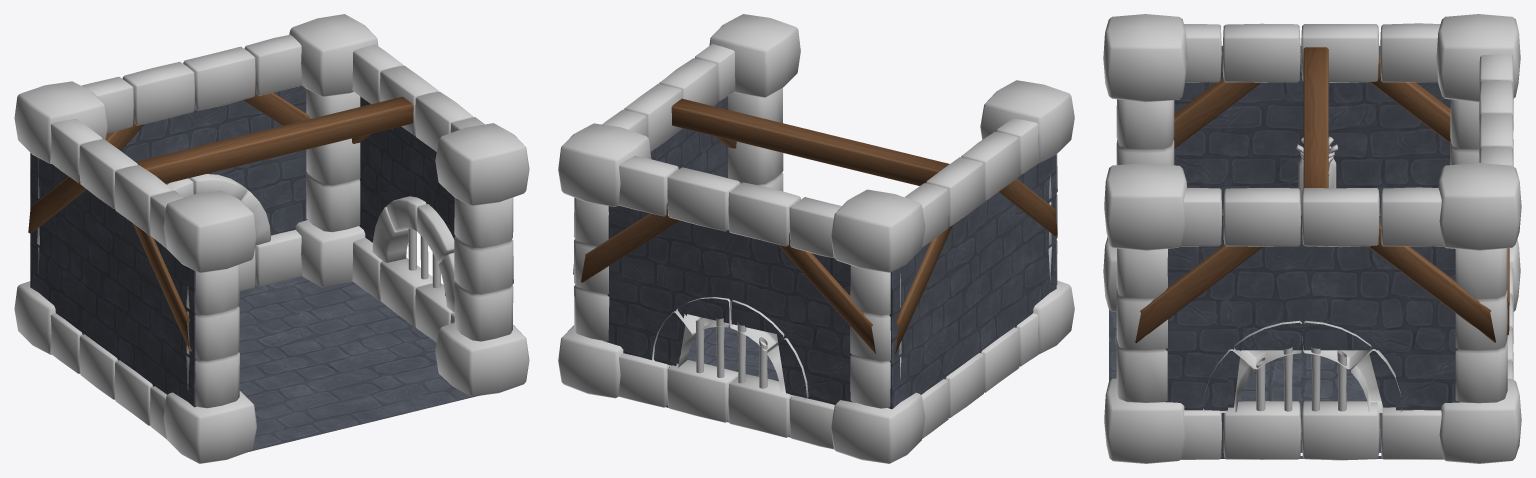
File: room_mesh.fbx
3 views of the same model, side by side, from view 1: azimuth 30°, elevation 25°; view 2: azimuth 150°, elevation 25°; view 3: azimuth 270°, elevation 25° (orthographic). The views are drawn at different scales.
Visible parts, largest first — view 1: roomFrame, floorWalls, roofBeam; view 2: roomFrame, floorWalls, roofBeam; view 3: roomFrame, floorWalls, roofBeam.
Boxes of the visible parts, bbox=[...] form: roomFrame: bbox=[14, 14, 529, 463]; floorWalls: bbox=[30, 85, 485, 452]; roofBeam: bbox=[28, 83, 445, 351]; roomFrame: bbox=[558, 14, 1074, 463]; floorWalls: bbox=[603, 96, 1056, 437]; roofBeam: bbox=[573, 98, 1057, 388]; roomFrame: bbox=[1103, 14, 1521, 463]; floorWalls: bbox=[1109, 46, 1459, 458]; roofBeam: bbox=[1135, 47, 1509, 411].
Bounding box in the file's own units: 1121 × 776 × 1075.
